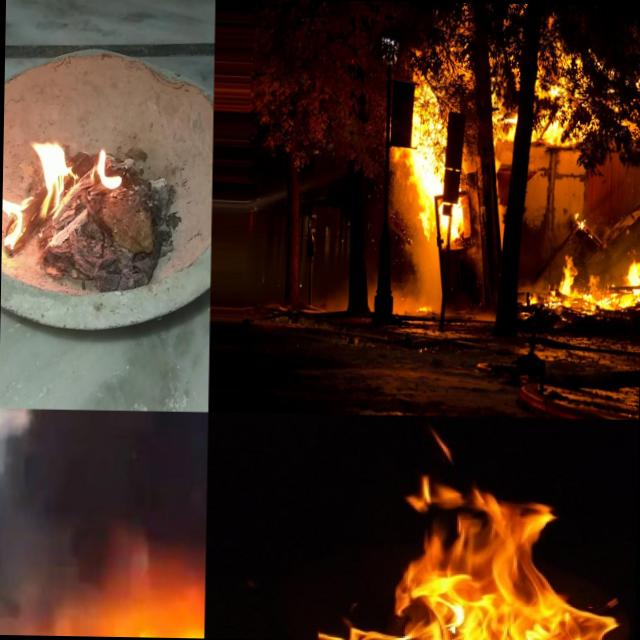fire: (318, 489, 620, 640), (388, 84, 476, 246), (1, 131, 78, 258), (547, 236, 640, 319), (123, 585, 205, 638), (87, 136, 130, 198)
smoke: (0, 407, 121, 636), (394, 244, 442, 316)
